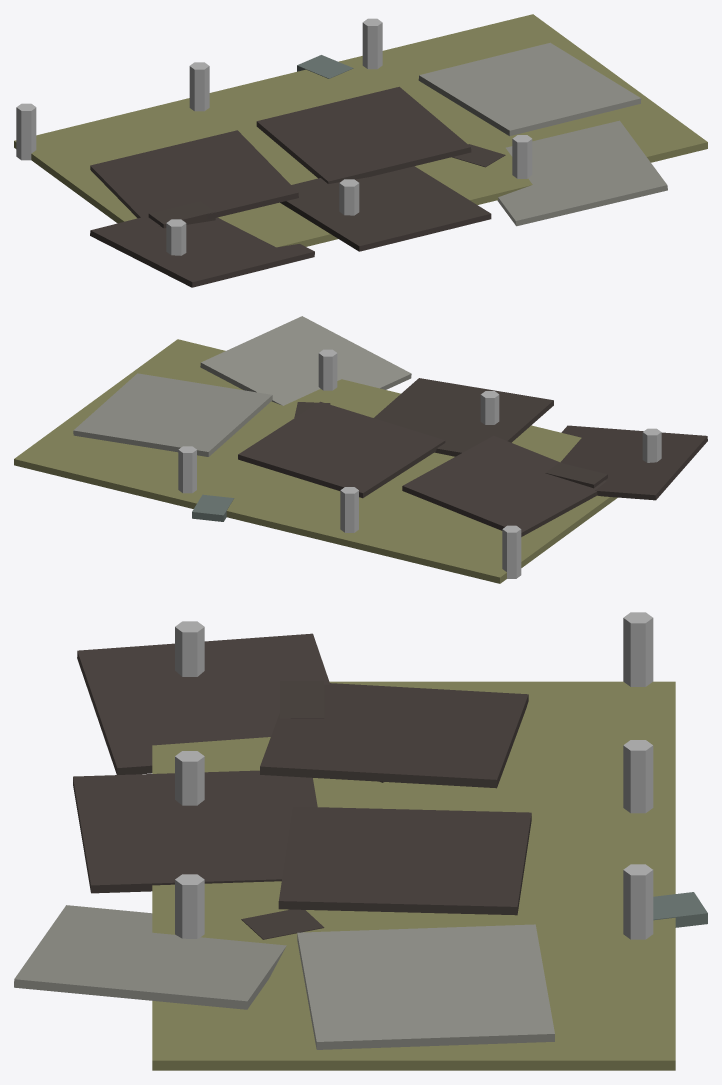
File: SM_MarquesinaBus_v4_Quemada_e3_Brecha_LOD1.fbx
3 views of the same model, one above another, from view 1: azimuth 30°, elevation 25°; view 2: azimuth 150°, elevation 25°; view 3: azimuth 270°, elevation 25° (orthographic). The views are drawn at different scales.
Visible parts, largest first — view 1: SM_marquesina_bus_v19_LOD1; view 2: SM_marquesina_bus_v19_LOD1; view 3: SM_marquesina_bus_v19_LOD1.
Part boxes in pixels (x1,y1,x2,y2): SM_marquesina_bus_v19_LOD1: (14,14,707,287); SM_marquesina_bus_v19_LOD1: (14,316,707,583); SM_marquesina_bus_v19_LOD1: (14,612,707,1070).
Size of the model in its own units: 13.05 by 1.16 by 9.29.
